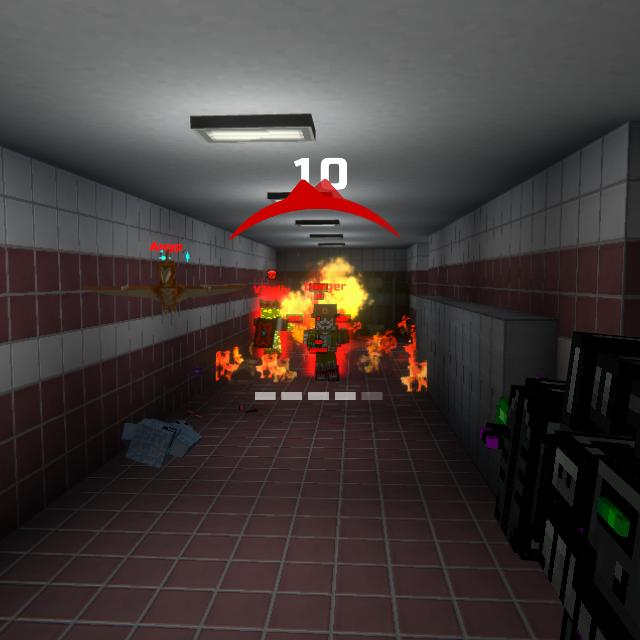Enemy: (304, 304, 349, 382), (253, 298, 295, 358)
